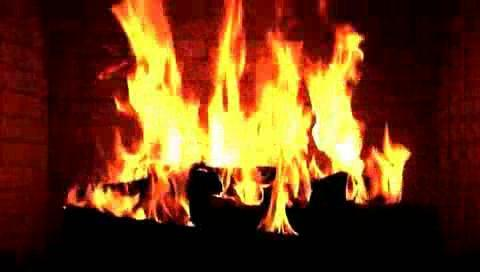fire: (99, 12, 380, 231)
